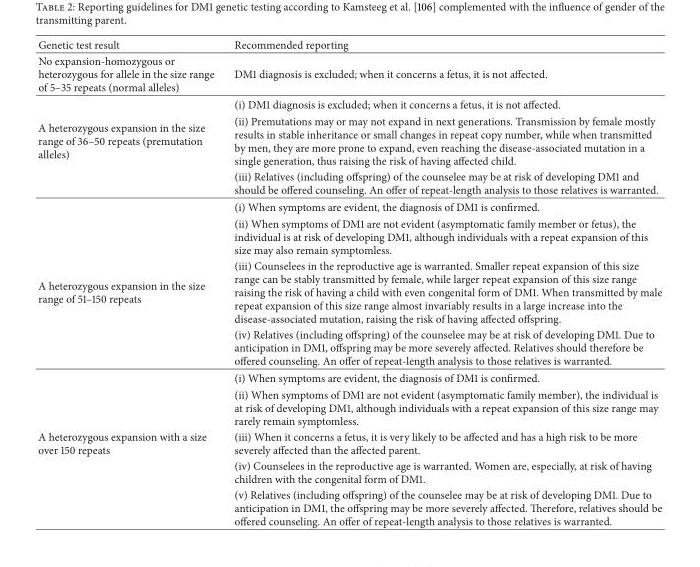table: (37, 36, 661, 528)
table column: (223, 36, 661, 528), (37, 36, 223, 528)
table column header: (37, 36, 661, 52)
table row: (37, 257, 661, 325), (37, 112, 661, 168), (37, 52, 661, 95), (37, 214, 661, 257), (37, 325, 661, 368), (37, 385, 661, 428), (37, 486, 661, 528), (37, 168, 661, 197), (37, 428, 661, 457), (37, 457, 661, 486), (37, 95, 661, 112), (37, 197, 661, 214), (37, 368, 661, 385), (37, 36, 661, 52)
table spanning cell: (37, 257, 223, 428), (37, 112, 223, 257), (37, 428, 223, 528), (37, 52, 223, 112)
